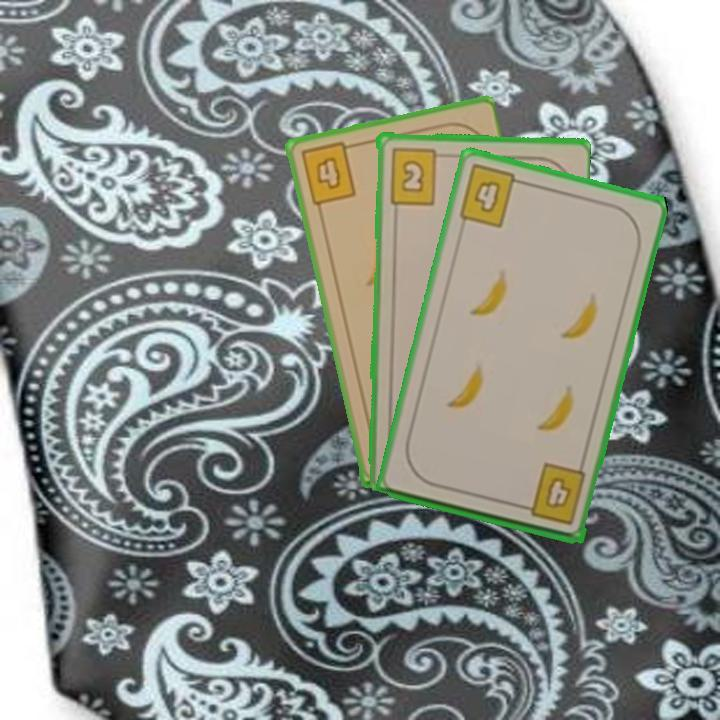2b: (386, 144, 448, 207)
4b: (455, 161, 529, 231), (515, 459, 588, 528), (297, 138, 359, 208)
